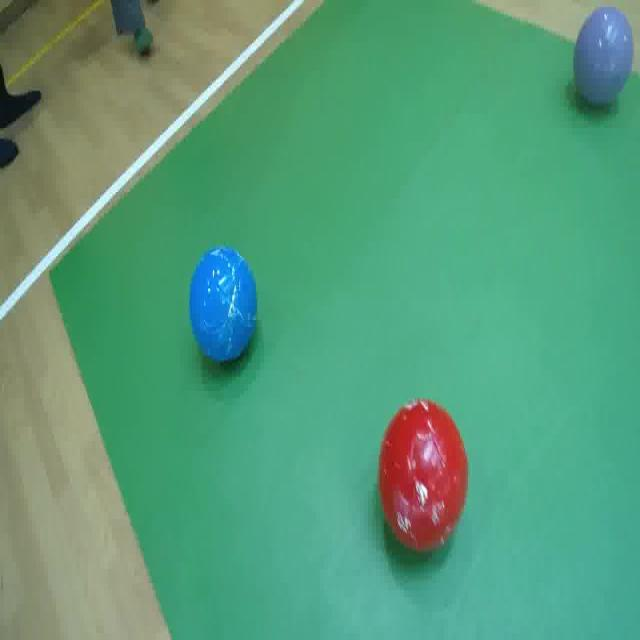blue_ball: (187, 245, 261, 369)
purple_ball: (574, 2, 636, 114)
red_ball: (373, 398, 478, 554)
